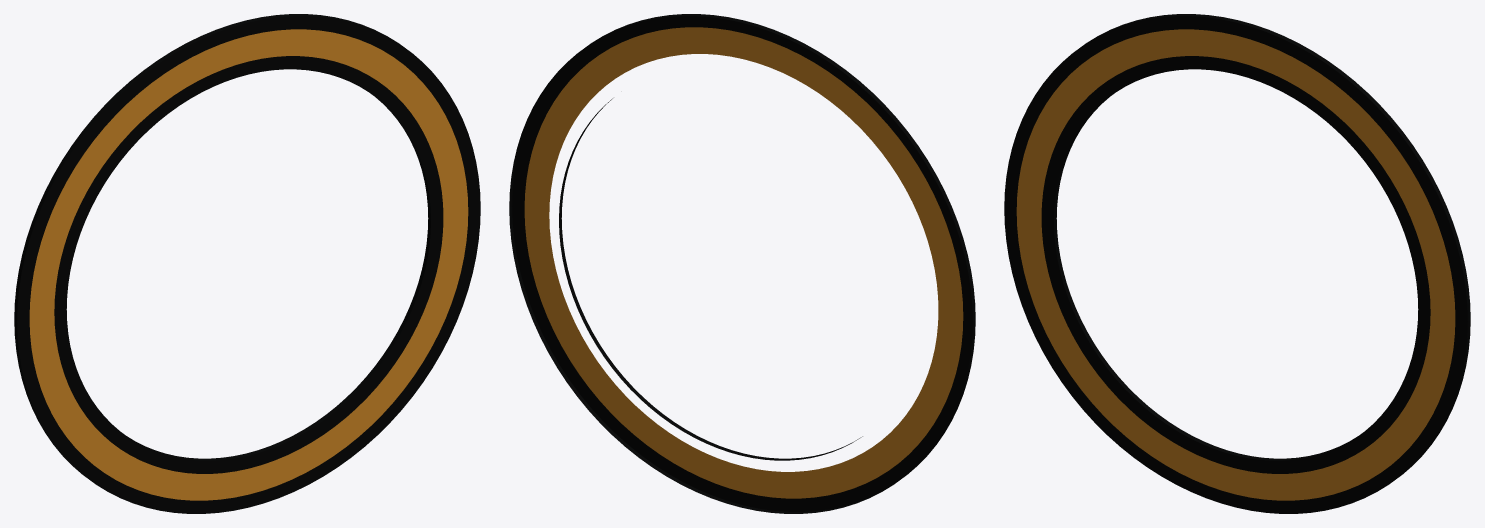
File: SM_Marker_TeamRing_P1.obj
3 renders of one model, left to right at view 1: azimuth 30°, elevation 25°; view 2: azimuth 150°, elevation 25°; view 3: azimuth 330°, elevation 25°, orthographic.
Visible parts, largest first — view 1: SM_Marker_TeamRing_P1; view 2: SM_Marker_TeamRing_P1; view 3: SM_Marker_TeamRing_P1.
Part boxes in pixels (bbox=[...]): SM_Marker_TeamRing_P1: bbox=[14, 14, 480, 513]; SM_Marker_TeamRing_P1: bbox=[509, 14, 975, 513]; SM_Marker_TeamRing_P1: bbox=[1004, 14, 1470, 513].
Bounding box in the file's own units: 56 × 56 × 0.6.
